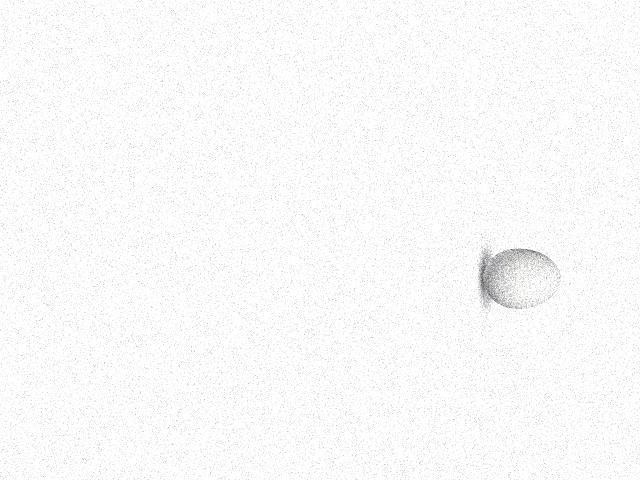egg: (483, 249, 561, 309)
